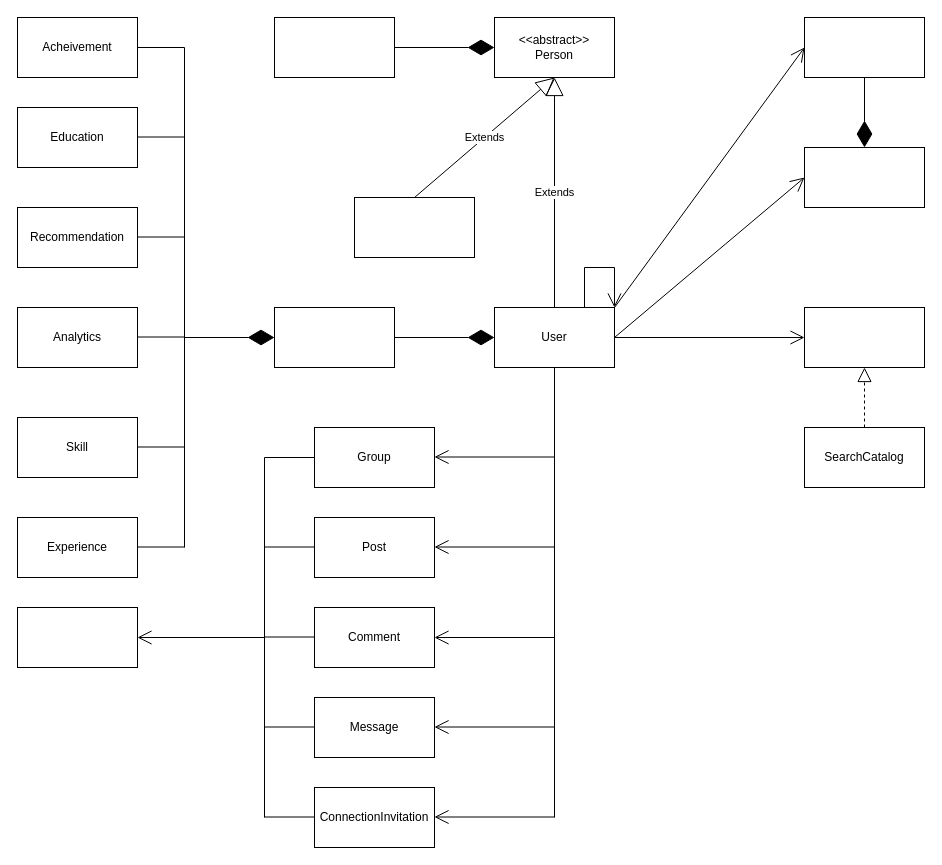
The diagram is 942 pixels wide and 865 high, and some of its shapes have lost their labels. The centre of each missing label's shape, as x and y in pixels:
<<interface>> Search: [864,337]
Account: [334,47]
Admin: [414,227]
CompanyPage: [864,177]
Job: [864,47]
Notification: [77,637]
Profile: [334,337]
